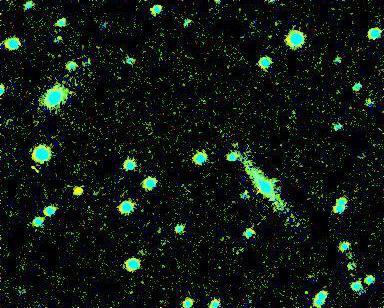star: (61, 178, 91, 208)
